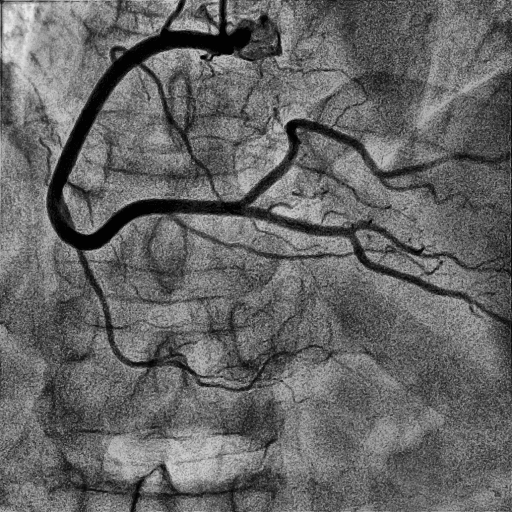pborca: (239, 118, 457, 206)
pda: (241, 206, 506, 326)
rca: (47, 31, 248, 250)
